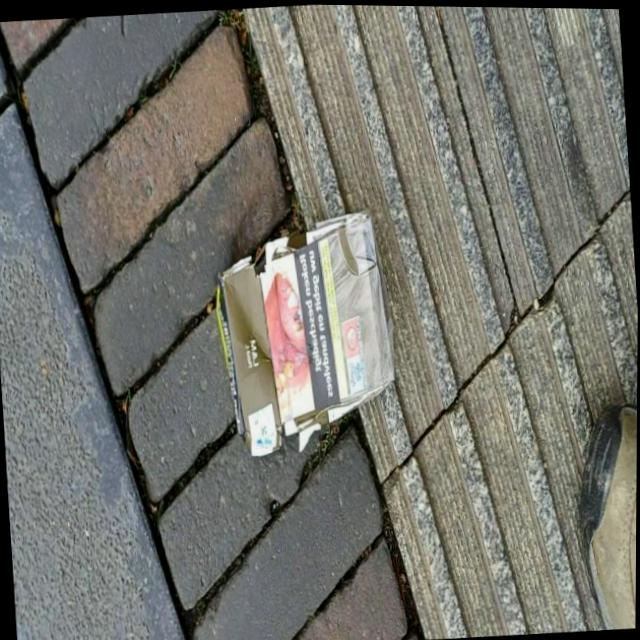Paper: (206, 199, 405, 466)
